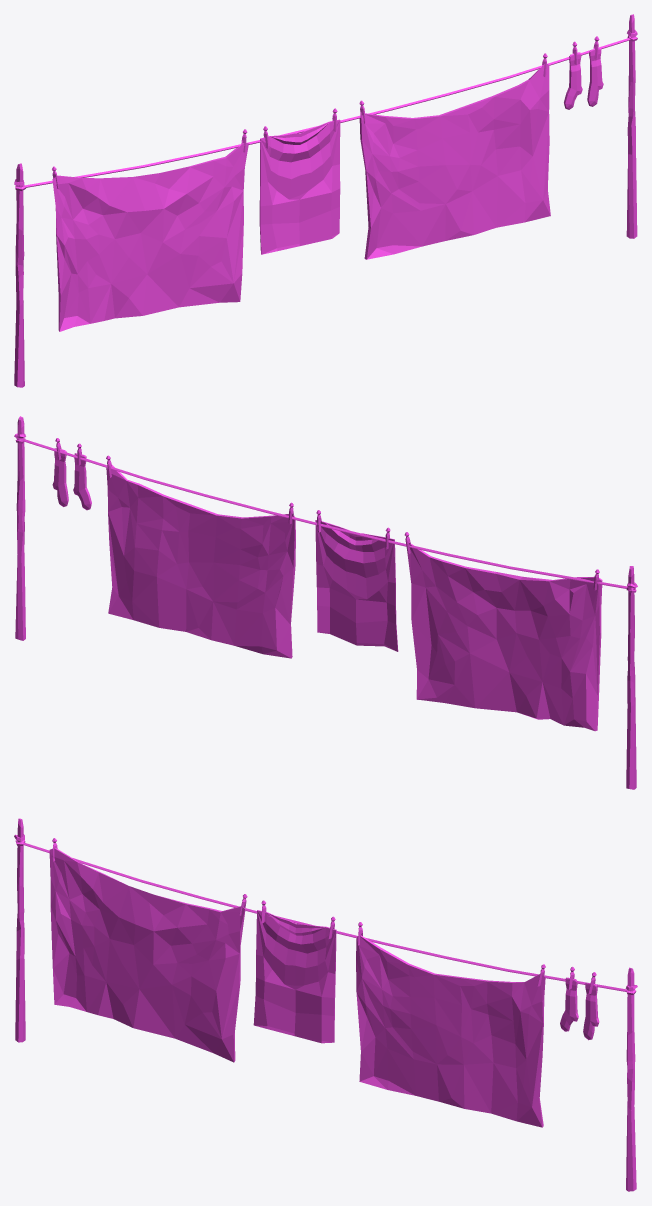
File: SM_Clothesline_Poles_7m_Clothes_Fantasy.fbx
3 views of the same model, one above another, from view 1: azimuth 30°, elevation 25°; view 2: azimuth 150°, elevation 25°; view 3: azimuth 330°, elevation 25° (orthographic).
Visible parts, largest first — view 1: SM_Clothesline_Poles_7m_Clothes_Fantasy; view 2: SM_Clothesline_Poles_7m_Clothes_Fantasy; view 3: SM_Clothesline_Poles_7m_Clothes_Fantasy.
Part boxes in pixels (<box>): SM_Clothesline_Poles_7m_Clothes_Fantasy: <box>14,14,637,387</box>; SM_Clothesline_Poles_7m_Clothes_Fantasy: <box>14,416,637,789</box>; SM_Clothesline_Poles_7m_Clothes_Fantasy: <box>14,818,637,1191</box>.
Size of the model in its own units: 7.16 by 2.45 by 0.1718.
